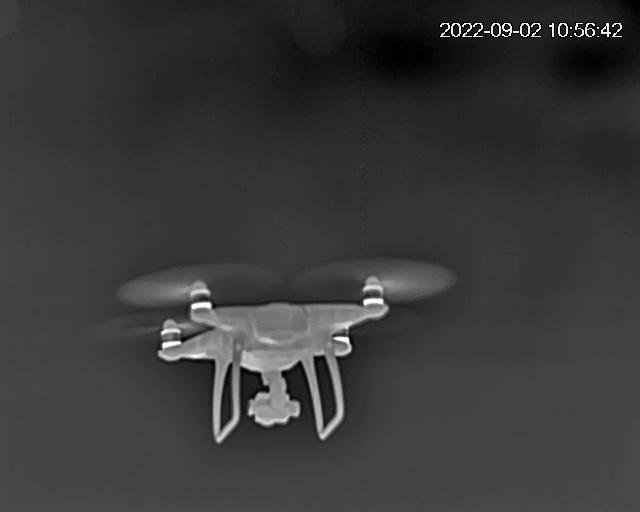DJI-Phantom: (125, 265, 418, 441)
